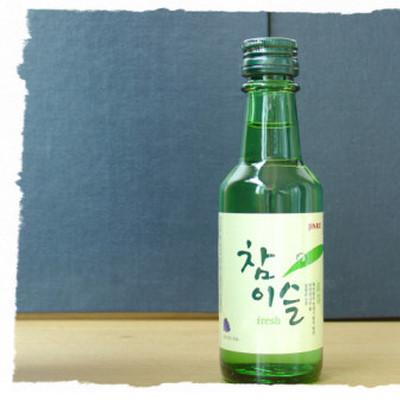soju: (214, 35, 328, 384)
